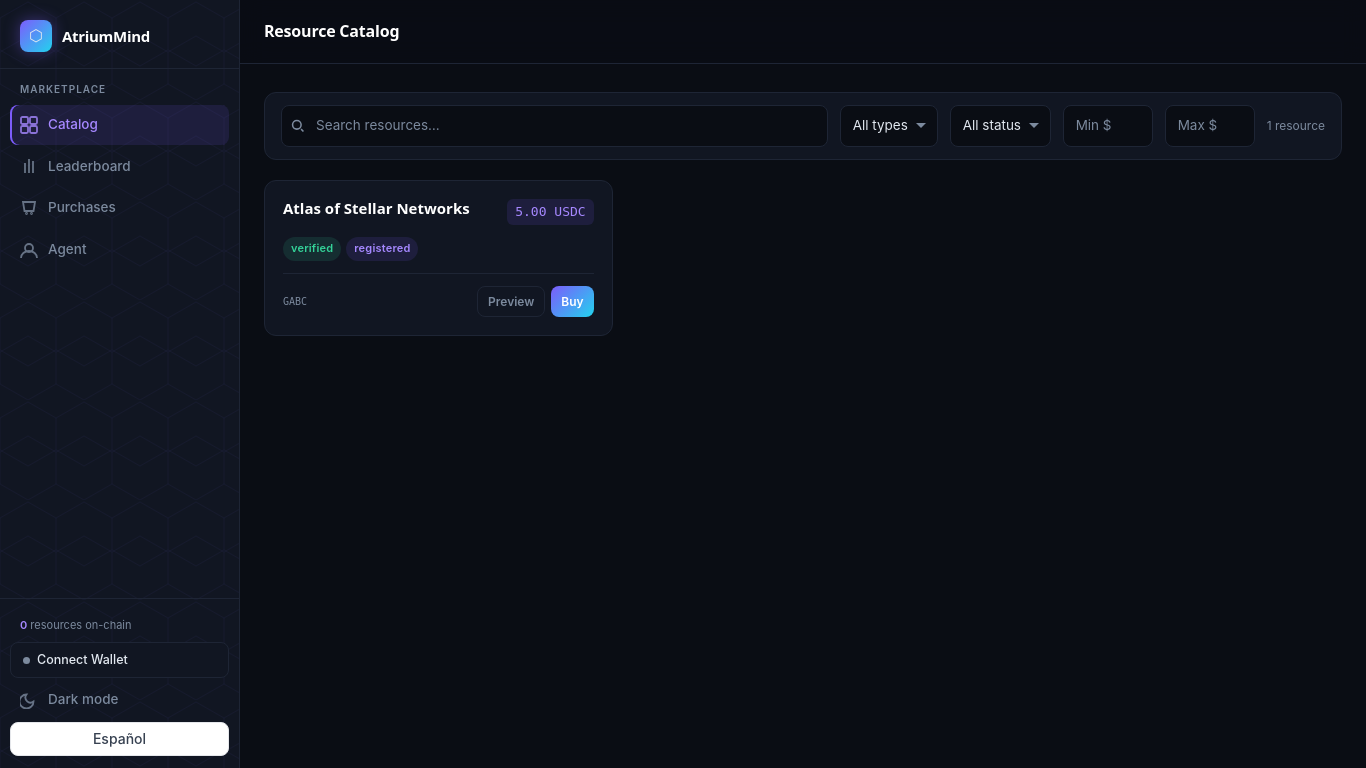
Test: App catalog empty states › opens the in-browser x402 purchase modal from the Buy button (#168, #219)
Click the button "Buy".
click(572, 302)  # box [551,286,594,317]
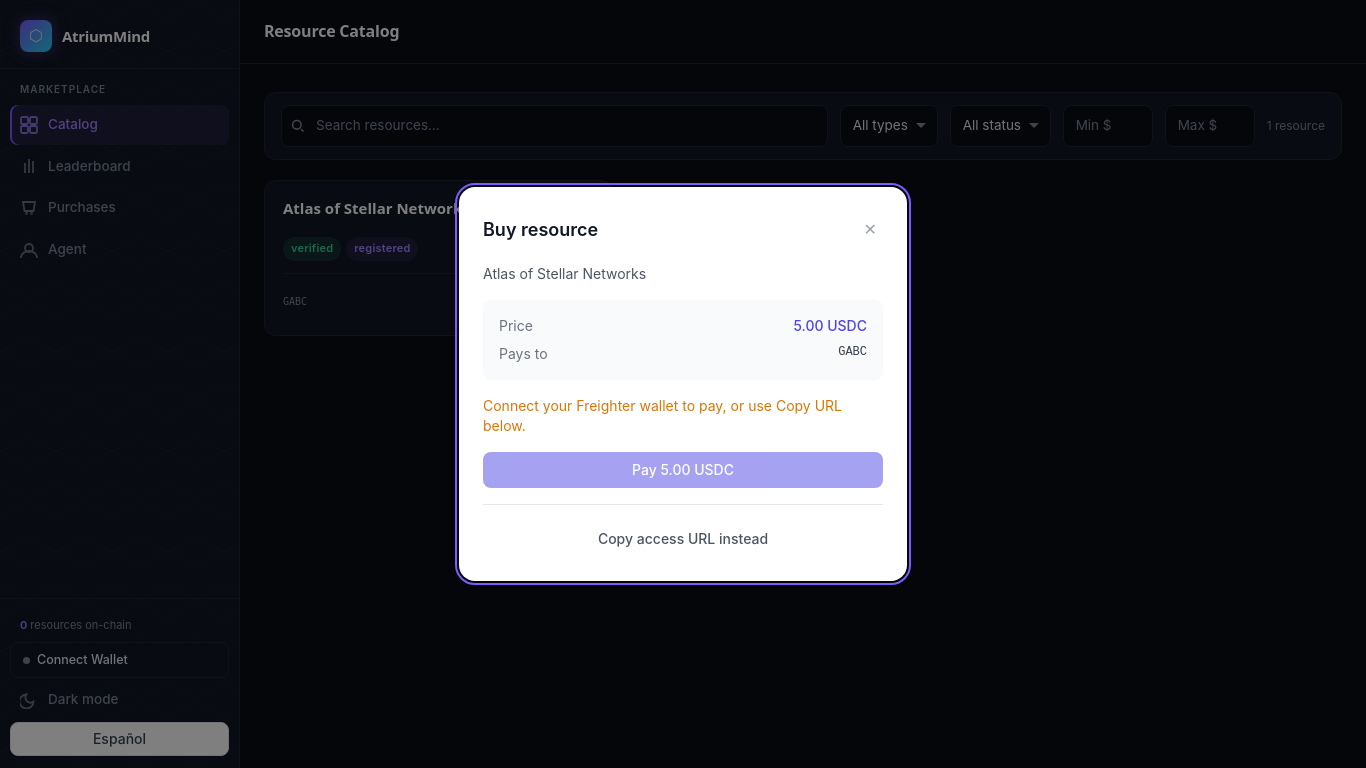
expect the heading "Buy resource" is shown: met, box [483,216,598,244]
expect the text "Atlas of Stellar Networks" is shown: met, box [483,265,646,282]
expect the text "5.00 USDC" is shown: met, box [794,316,867,336]
